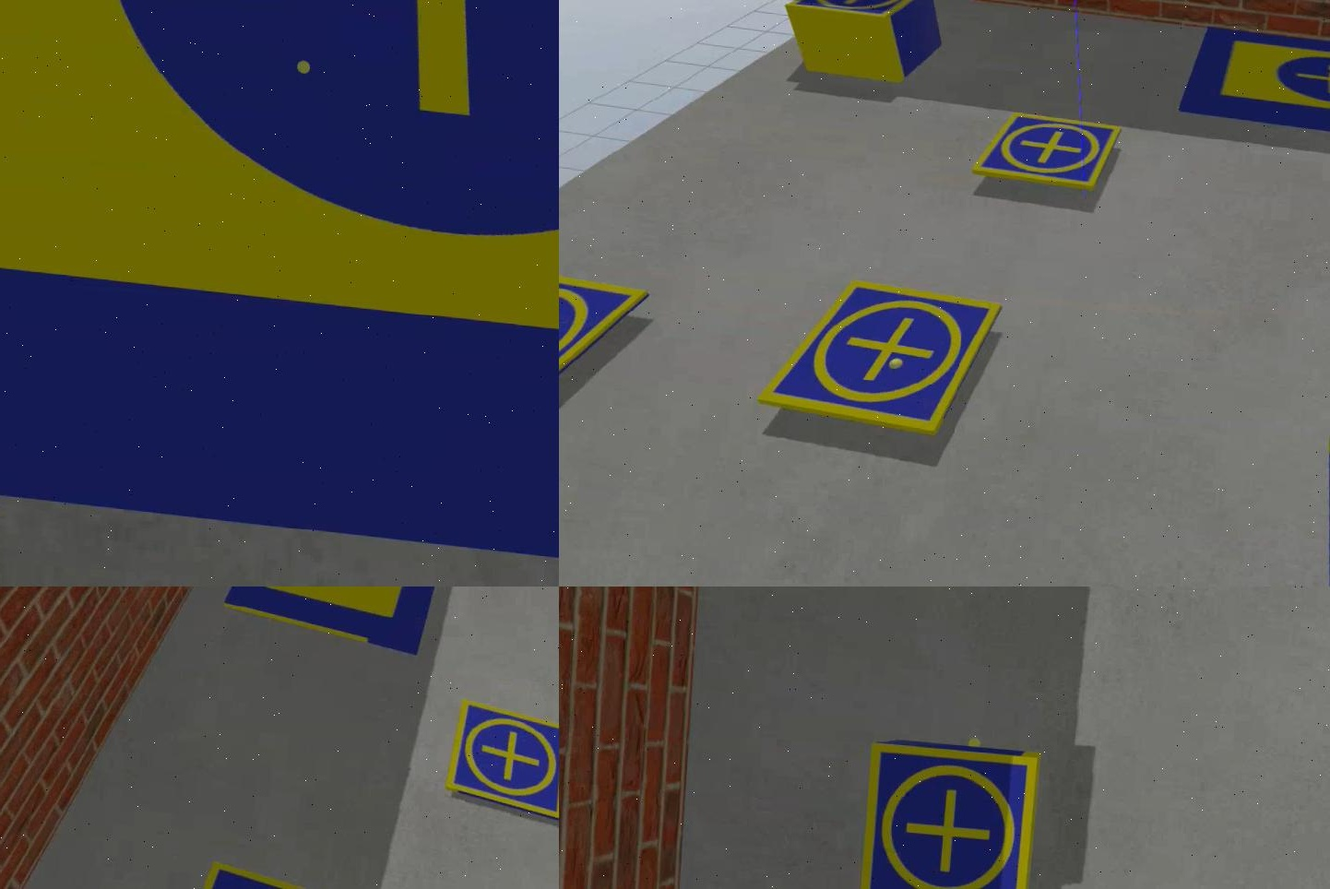large_base: (0, 1, 558, 562), (1173, 23, 1328, 154), (216, 587, 464, 658)
small_base: (751, 271, 1006, 443), (856, 741, 1041, 889), (444, 698, 558, 826), (558, 269, 654, 409), (968, 109, 1121, 194), (783, 1, 931, 30)
